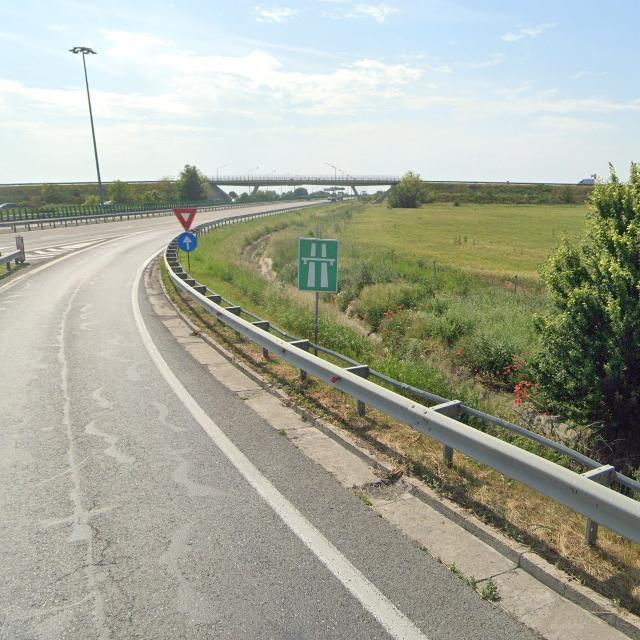prio_give_way: (172, 208, 198, 233), (178, 232, 198, 252)
